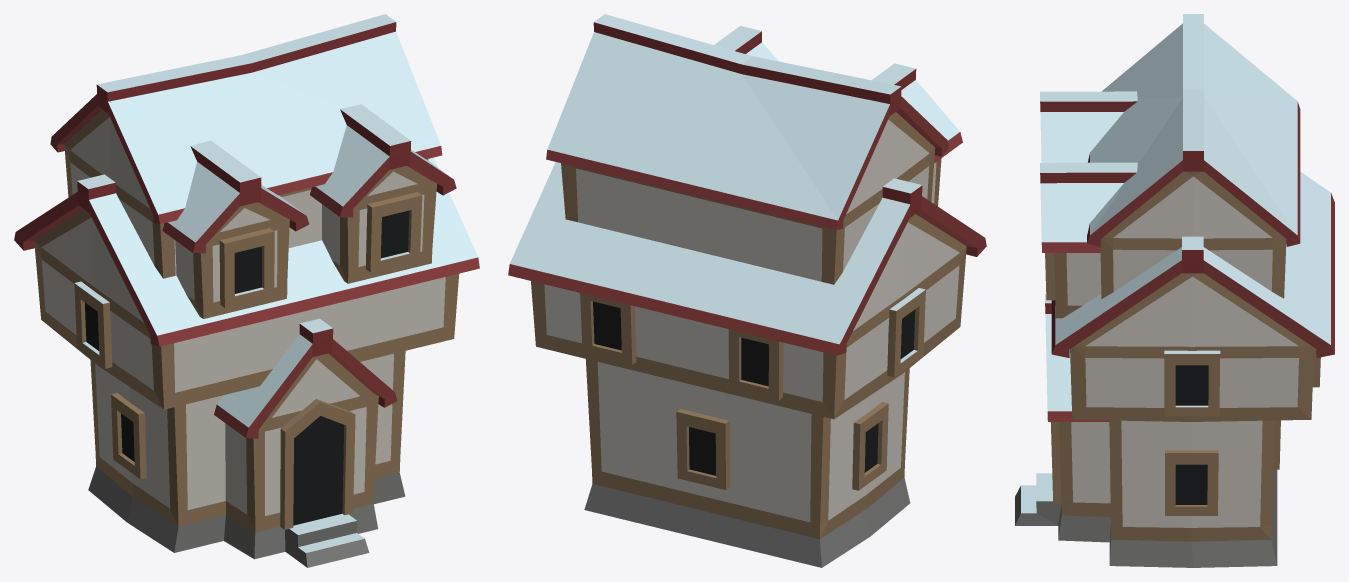
File: SM_Bld_Knights_House_03_Snow.fbx
The picture shows the model from 3 angles, left to right: view 1: azimuth 30°, elevation 25°; view 2: azimuth 150°, elevation 25°; view 3: azimuth 270°, elevation 25°; orthographic projection. The views are drawn at different scales.
Parts seen in each view (by area): view 1: SM_Bld_Knights_House_03_Snow; view 2: SM_Bld_Knights_House_03_Snow; view 3: SM_Bld_Knights_House_03_Snow.
Part boxes in pixels (box(x1,y1,x2,y2)): SM_Bld_Knights_House_03_Snow: box(14, 14, 479, 567); SM_Bld_Knights_House_03_Snow: box(508, 14, 986, 567); SM_Bld_Knights_House_03_Snow: box(1015, 14, 1334, 567).
Bounding box in the file's own units: 127 × 162 × 110.
1 material, 1 textured.
